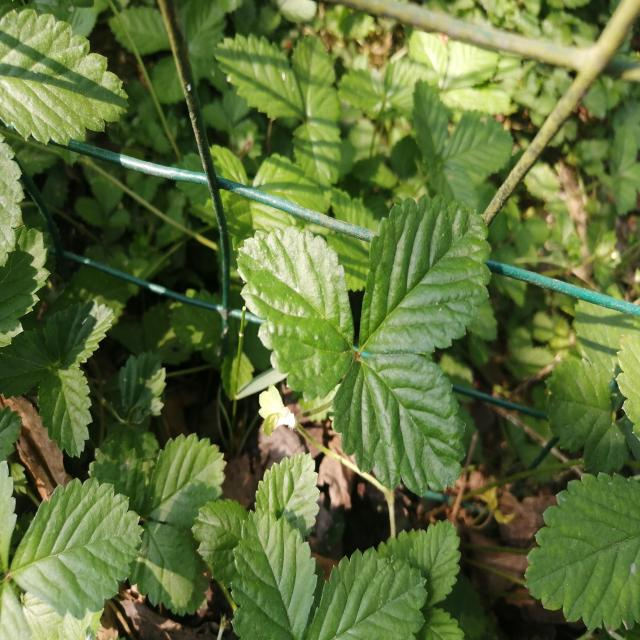Mock_strawberry: (234, 192, 480, 493)
